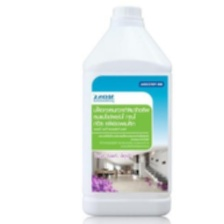cleaning_solution: (80, 3, 175, 219)
